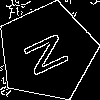N: (22, 27, 79, 79)
